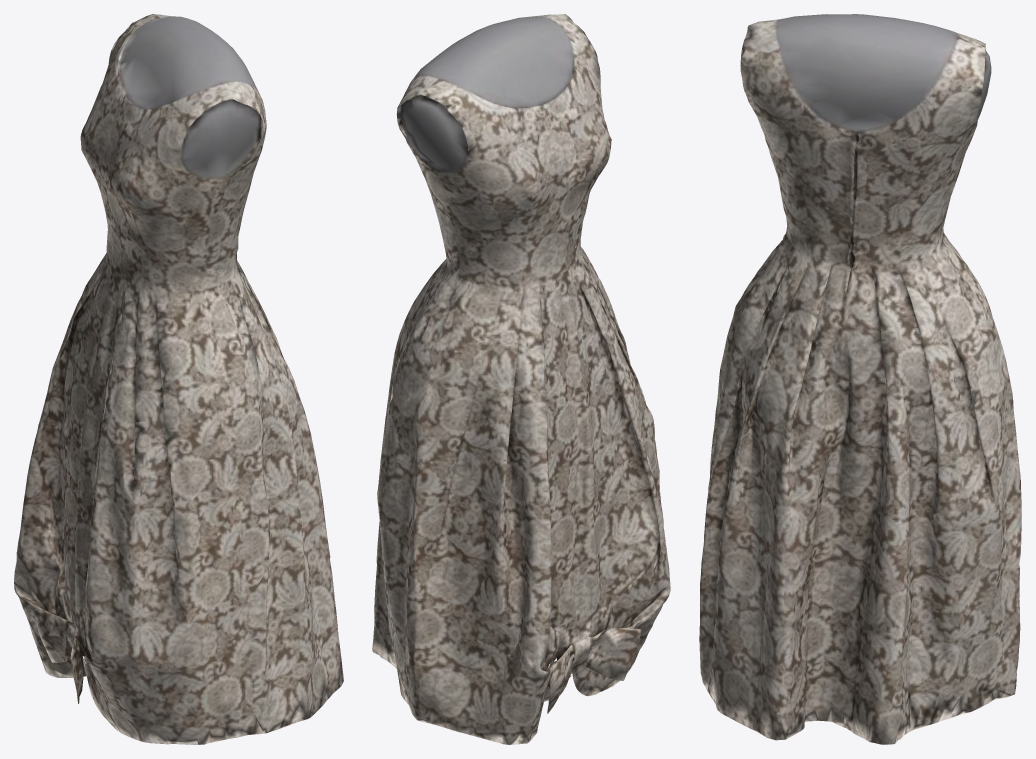
The model's file is empty_dress.glb.
3 renders of one model, left to right at view 1: azimuth 30°, elevation 25°; view 2: azimuth 150°, elevation 25°; view 3: azimuth 270°, elevation 25°, orthographic. The views are drawn at different scales.
Size of the model in its own units: 0.4032 by 0.9998 by 0.4272.
1 material, 1 textured.
